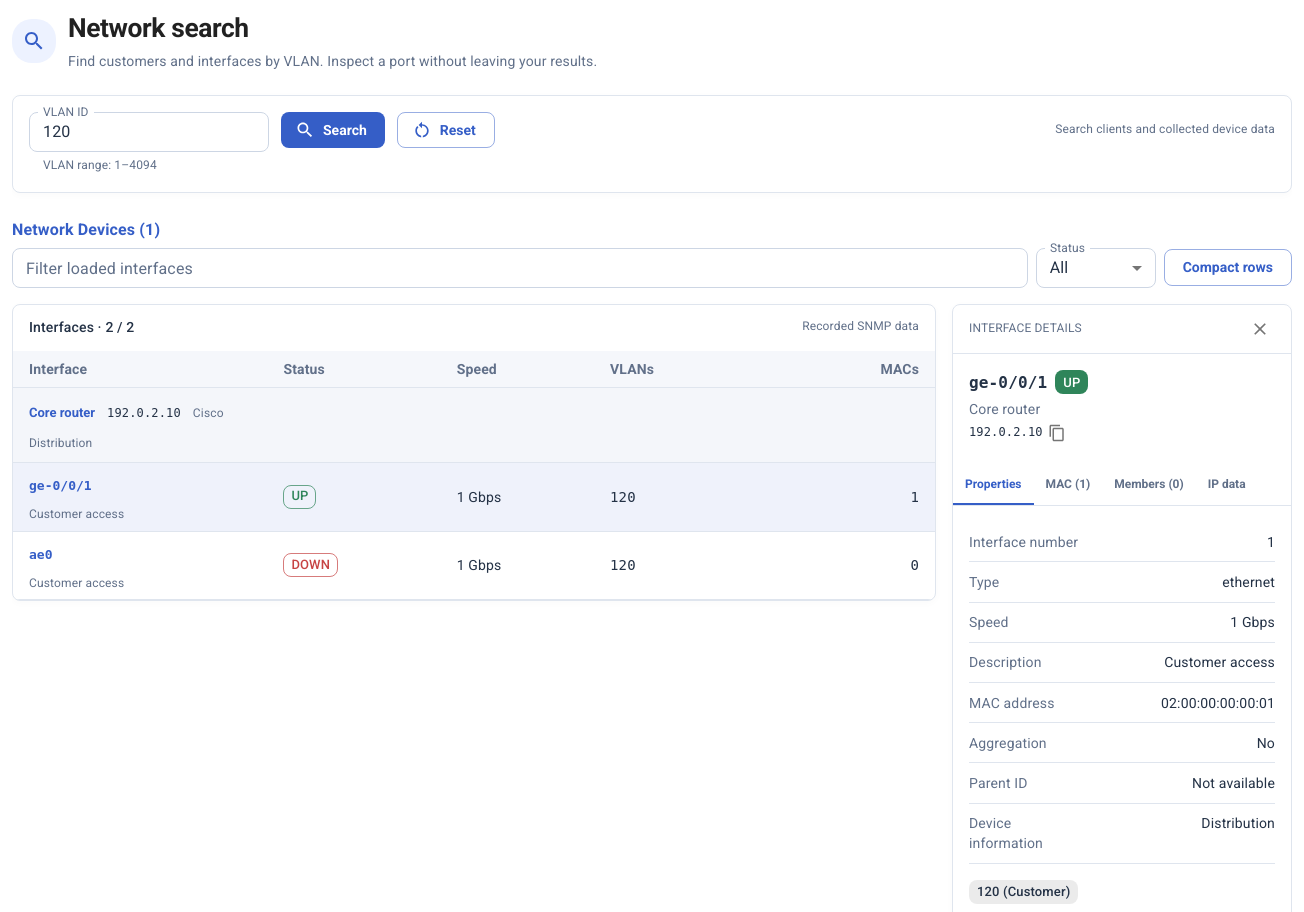
Test: engineering interface workspace › restores VLAN search from its URL and updates the URL when reset
Expected: the number field labelled "VLAN ID" holds "120", top-left (29, 112), bottom-right (269, 152)
Expected: the table named "Network interfaces" is shown, top-left (13, 351), bottom-right (935, 600)
What coordinates should you click on to do the following:
click the button "Reset"
I would click on:
 (446, 130)
Its box is top-left (397, 112), bottom-right (495, 148).
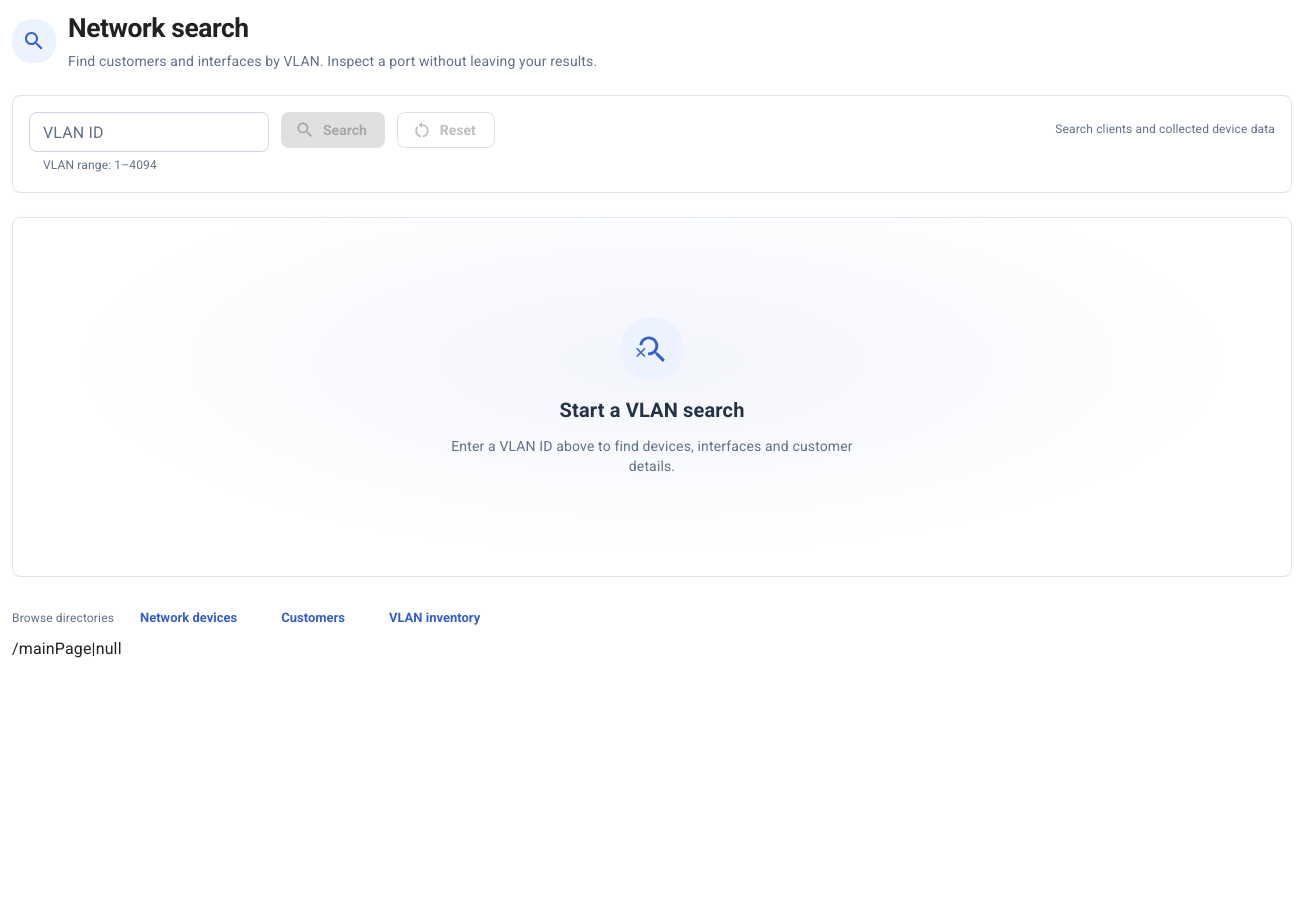
Now the text named "Current location" reads "/mainPage|null", box top-left (12, 638), bottom-right (92, 658)
Now the heading "Start a VLAN search" is shown, box top-left (560, 397), bottom-right (744, 424)
